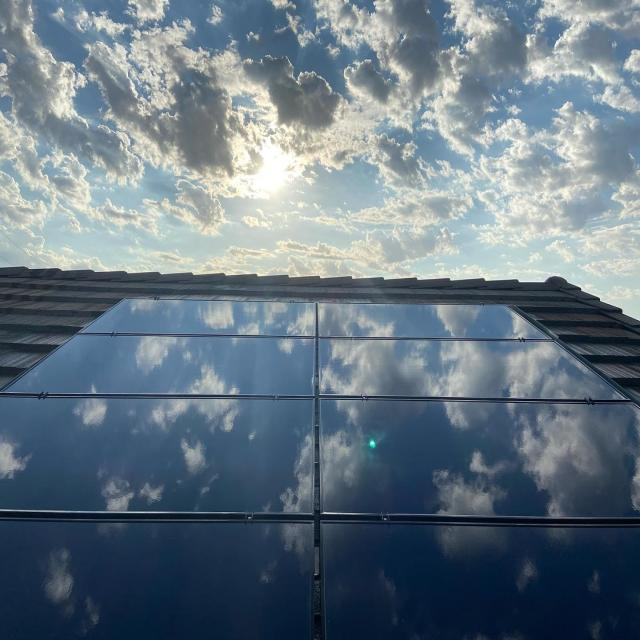clean-solar-panel: (1, 520, 312, 638)
